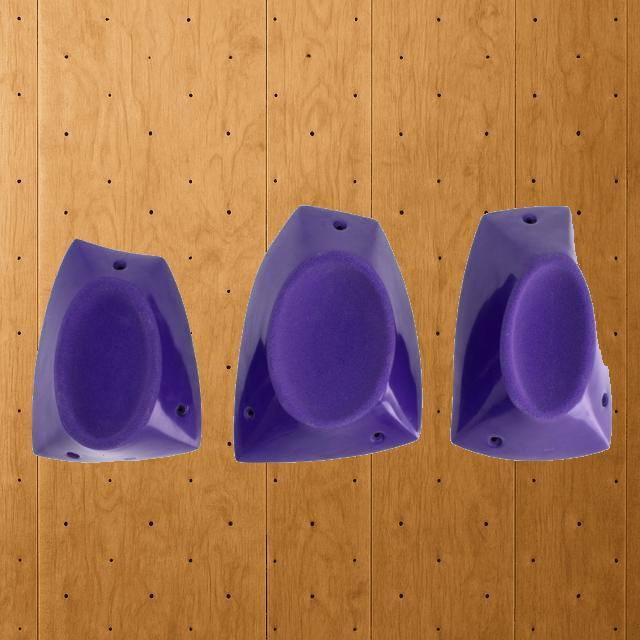Sloper: (232, 203, 423, 463), (450, 203, 612, 461), (30, 237, 202, 463)
